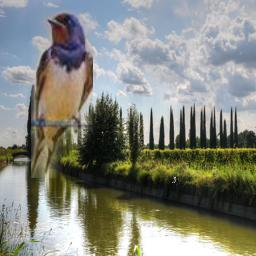Swallow: (31, 9, 93, 178)
Woodpecker: (172, 174, 181, 183)
